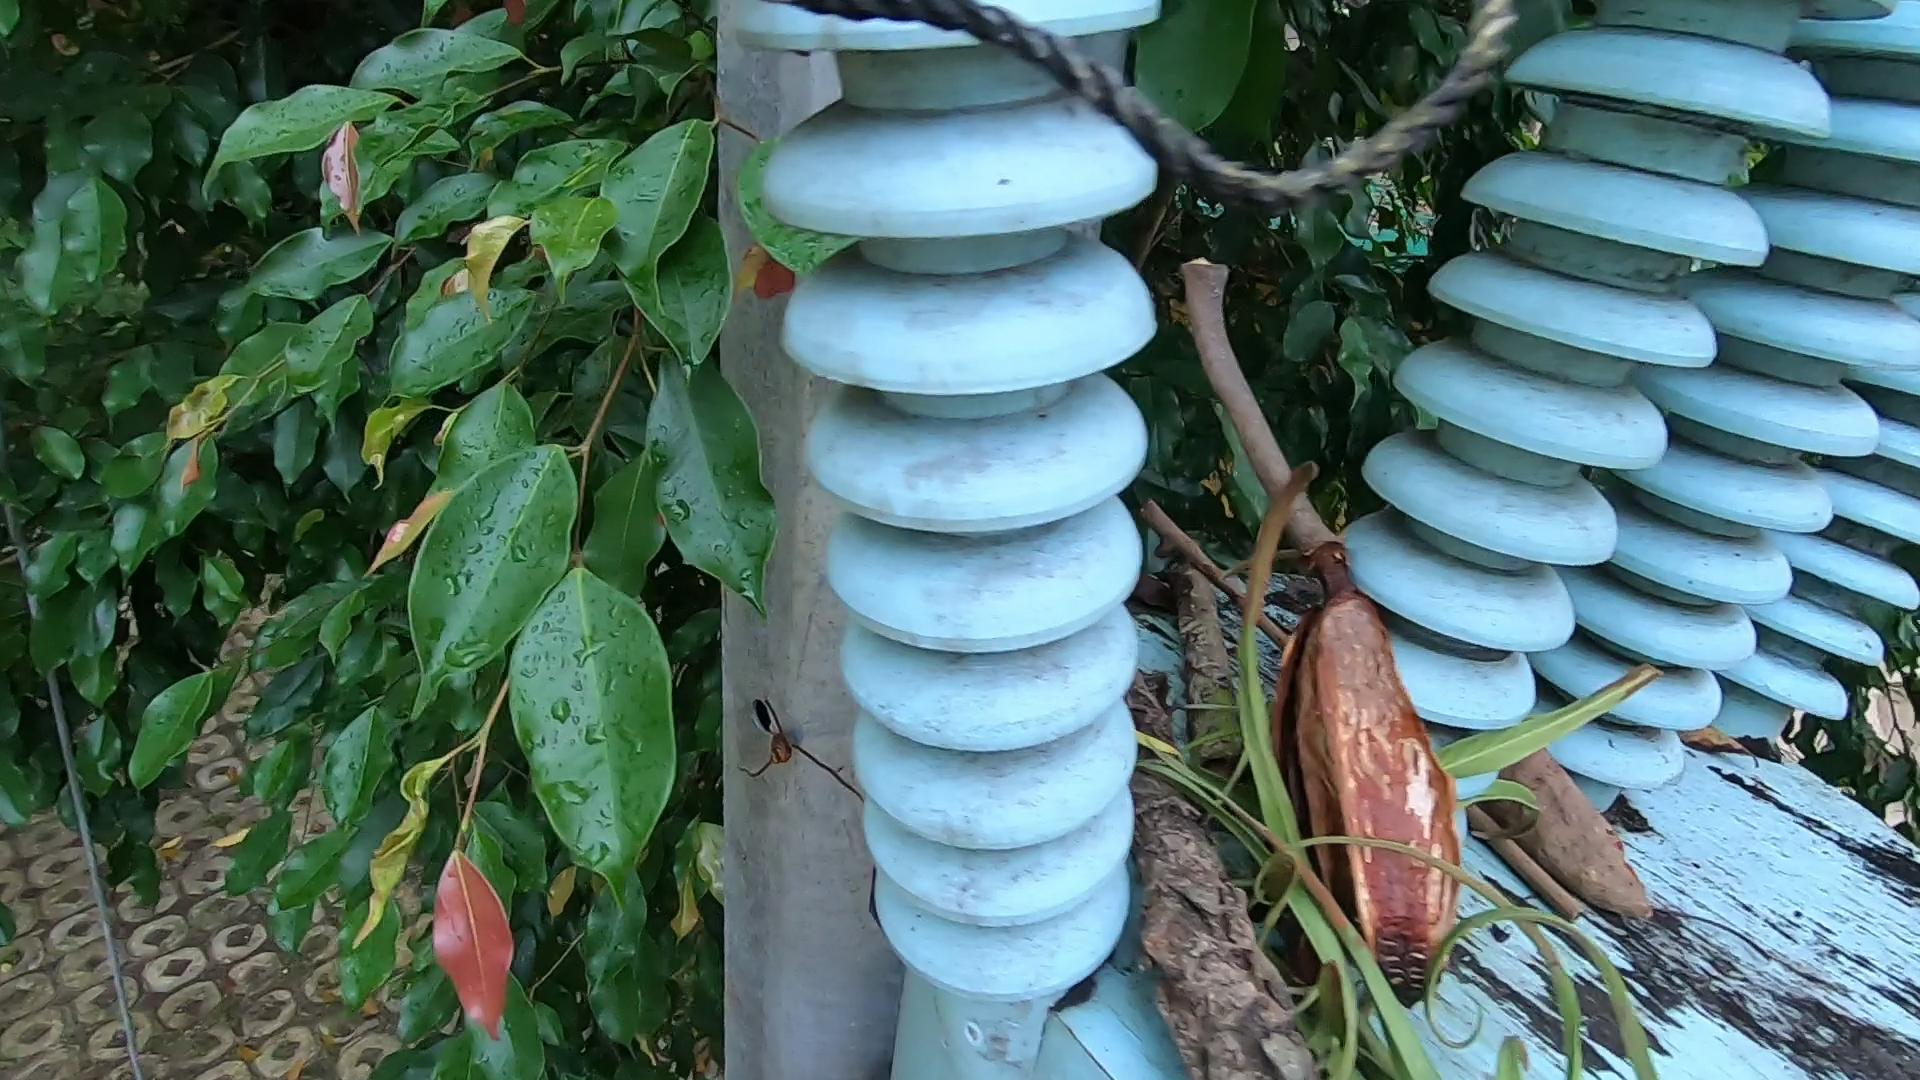branch with leaves: (1064, 469, 1693, 1080)
leaf: (1687, 719, 1758, 764)
mahogany fruit: (1240, 567, 1493, 1019), (1474, 715, 1683, 963)
tree branch: (1176, 236, 1466, 1000), (1133, 495, 1303, 663), (1462, 789, 1601, 920)
